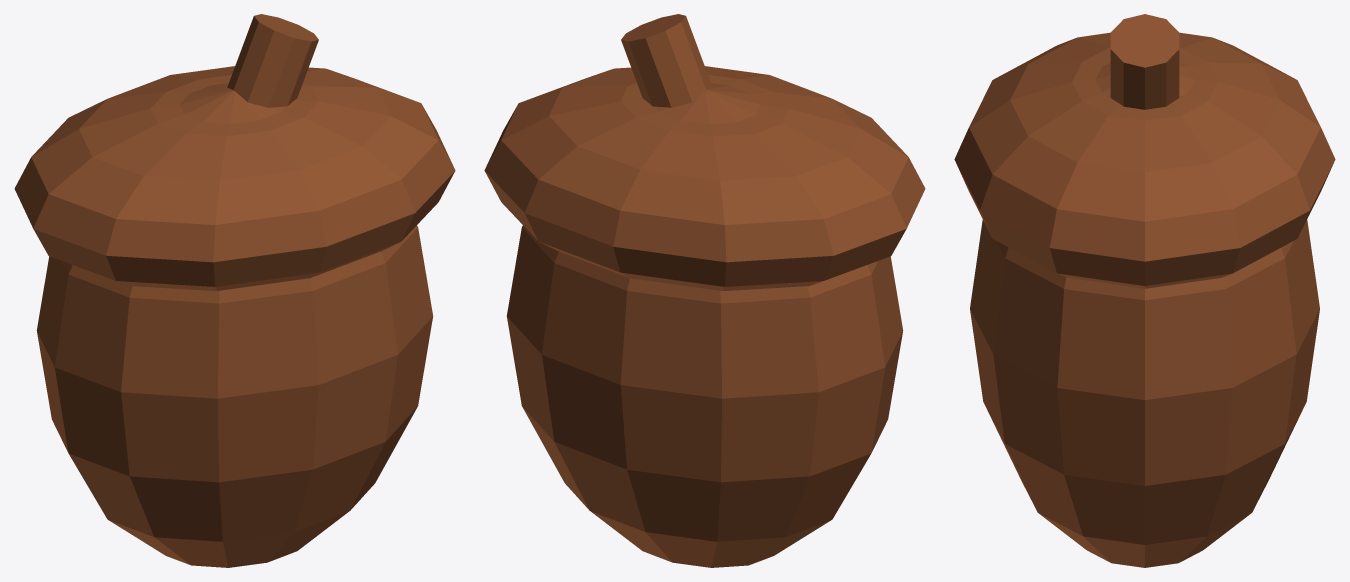
File: power.glb
3 views of the same model, side by side, from view 1: azimuth 30°, elevation 25°; view 2: azimuth 150°, elevation 25°; view 3: azimuth 270°, elevation 25° (orthographic). The views are drawn at different scales.
Visible parts, largest first — view 1: power, Acorn cap, Stem.001; view 2: power, Acorn cap, Stem.001; view 3: power, Acorn cap, Stem.001.
Boxes of the visible parts, bbox=[...] form: power: bbox=[36, 83, 433, 567]; Acorn cap: bbox=[14, 66, 455, 291]; Stem.001: bbox=[227, 14, 318, 107]; power: bbox=[506, 83, 903, 567]; Acorn cap: bbox=[484, 66, 925, 291]; Stem.001: bbox=[621, 14, 712, 107]; power: bbox=[970, 62, 1319, 567]; Acorn cap: bbox=[954, 32, 1335, 288]; Stem.001: bbox=[1110, 14, 1179, 109].
Bounding box in the file's own units: 0.94 × 1.18 × 0.74.
